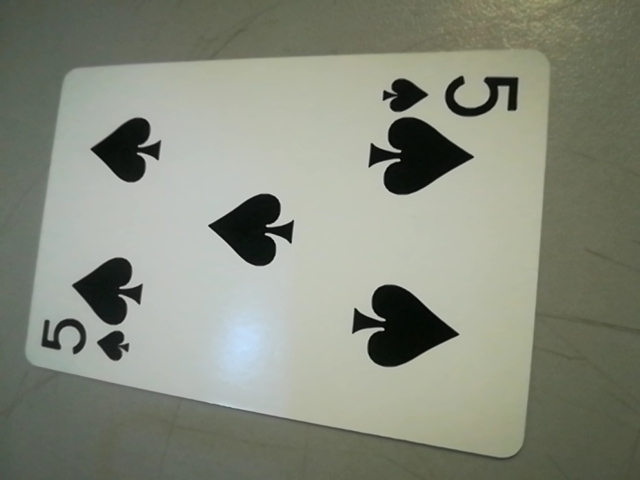ht 5: (373, 69, 534, 125)
